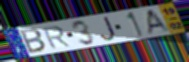1: (126, 11, 146, 38)
3: (71, 19, 97, 46)
A: (146, 8, 171, 36)
B: (19, 27, 49, 54)
J: (100, 16, 118, 42)
R: (41, 25, 73, 50)
